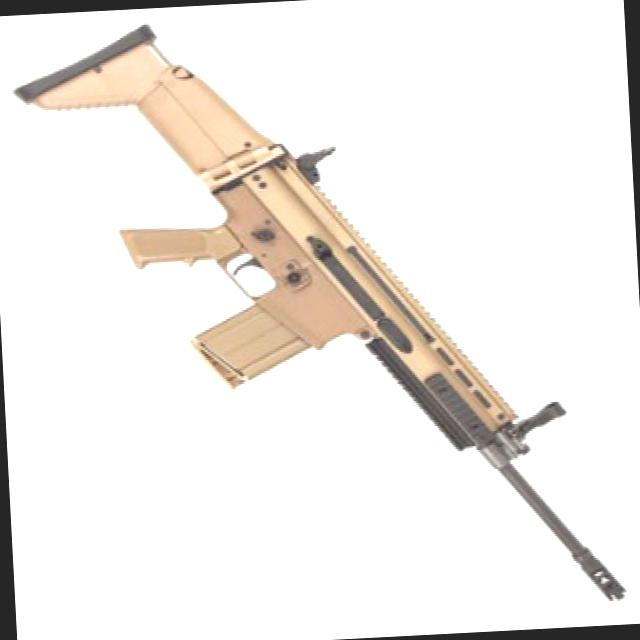long weapon: (10, 0, 637, 639)
